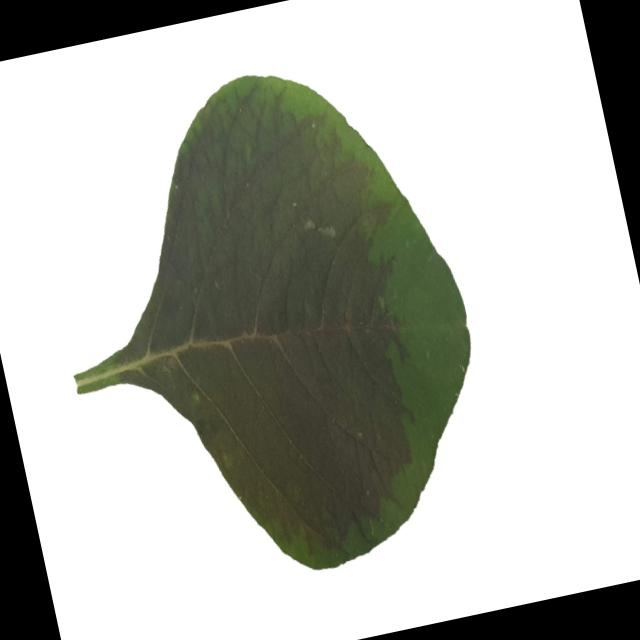Medicinal-Arive Dantu: (24, 34, 514, 616)
